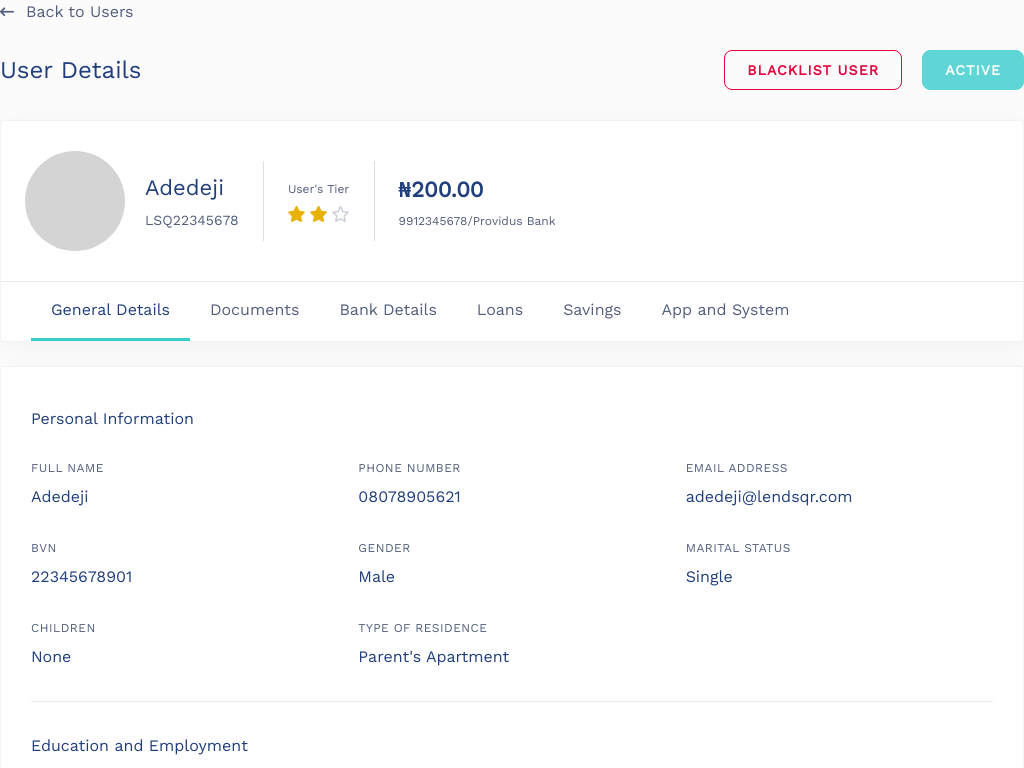
Scenario: UserDetails Page › tab navigation switches content panels
What coordinates should you click on to do the following:
click the tab "Documents"
I would click on:
 (255, 312)
Its box is [190,282,319,341].
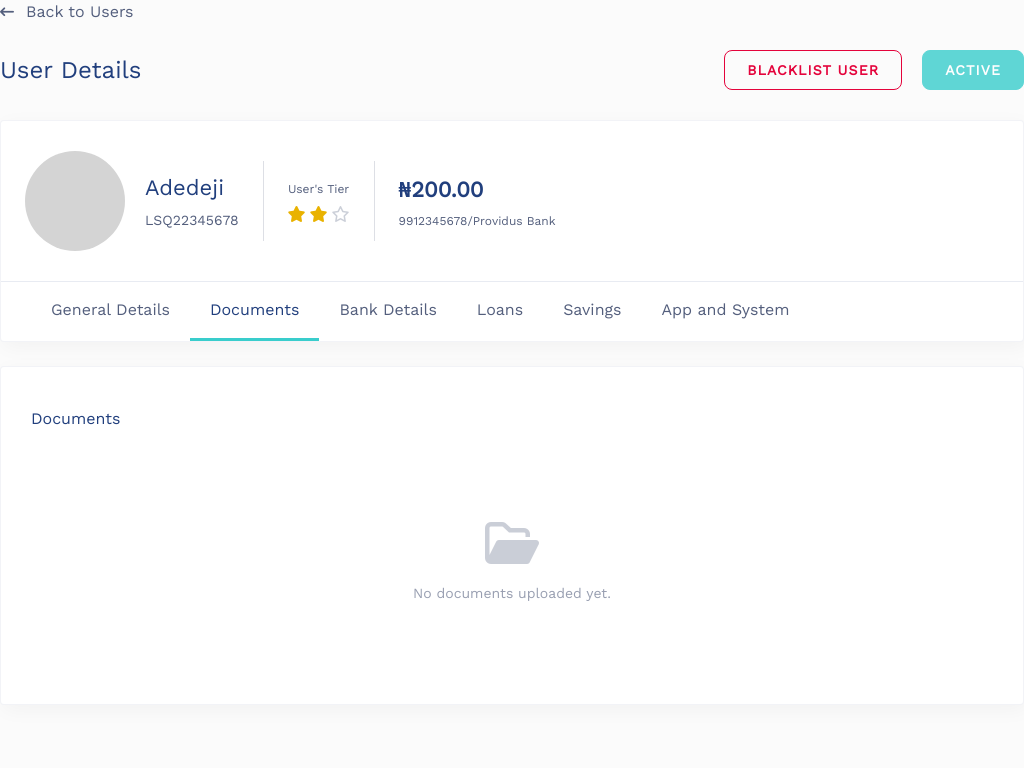
Check: the text "No documents uploaded yet." is shown, box [413,583,611,604]
